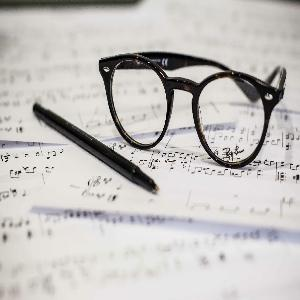pen: (27, 99, 163, 197)
